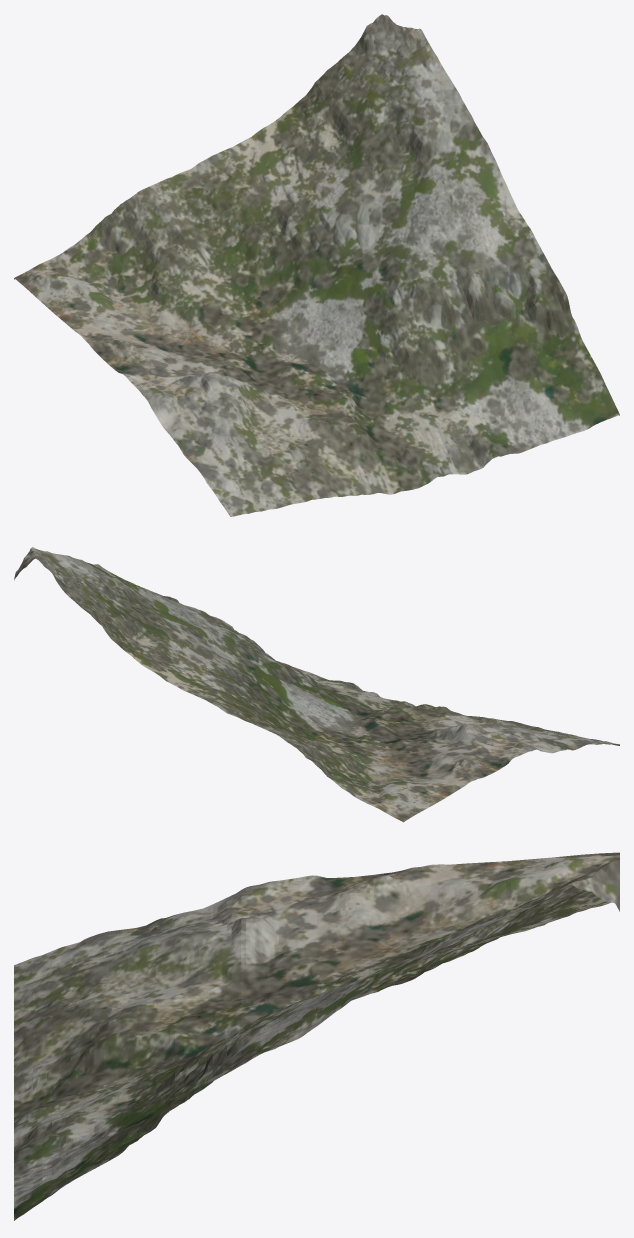
The picture shows the model from 3 angles, top to bottom: view 1: azimuth 30°, elevation 25°; view 2: azimuth 150°, elevation 25°; view 3: azimuth 270°, elevation 25°; orthographic projection. The views are drawn at different scales.
Bounding box in the file's own units: 250 × 168 × 241.
1 material, 1 textured.
